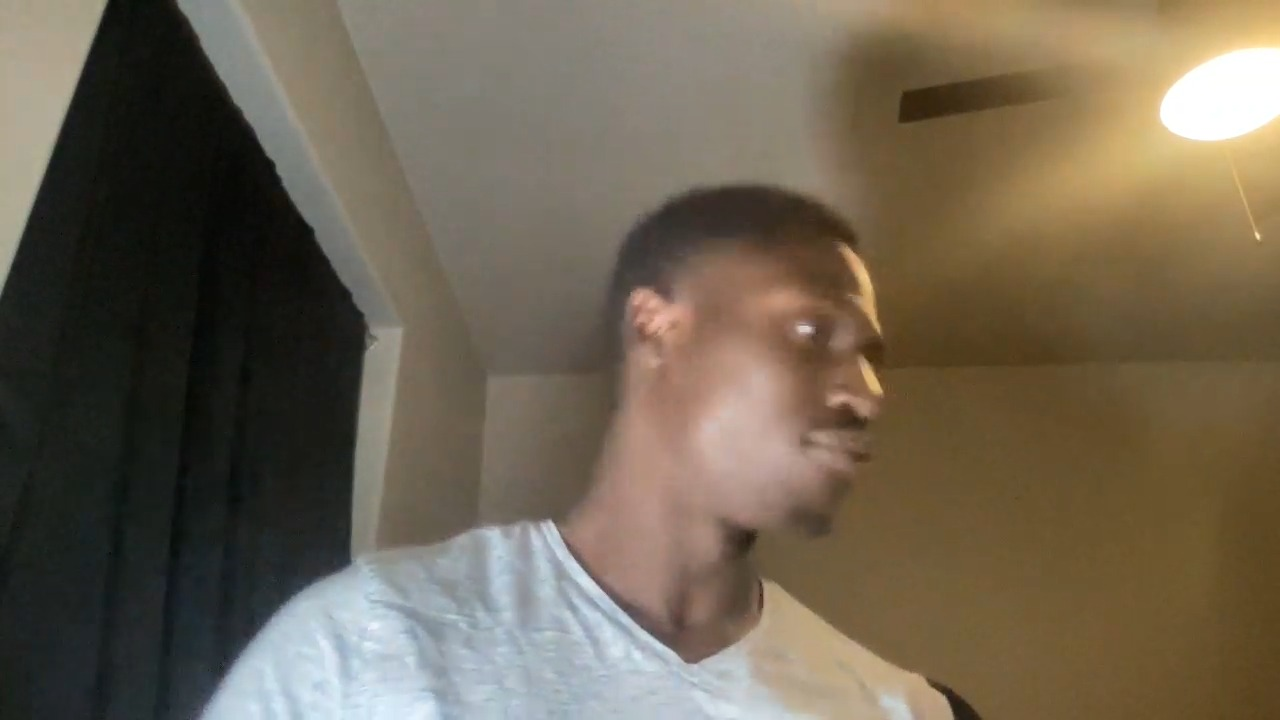face: (620, 194, 886, 545)
